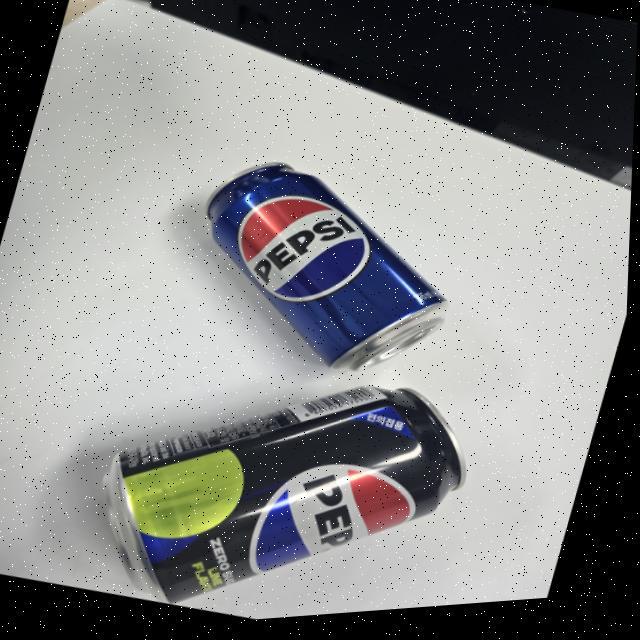can_pepsi: (203, 162, 443, 368)
can_pepsi_zero: (106, 383, 463, 599)
